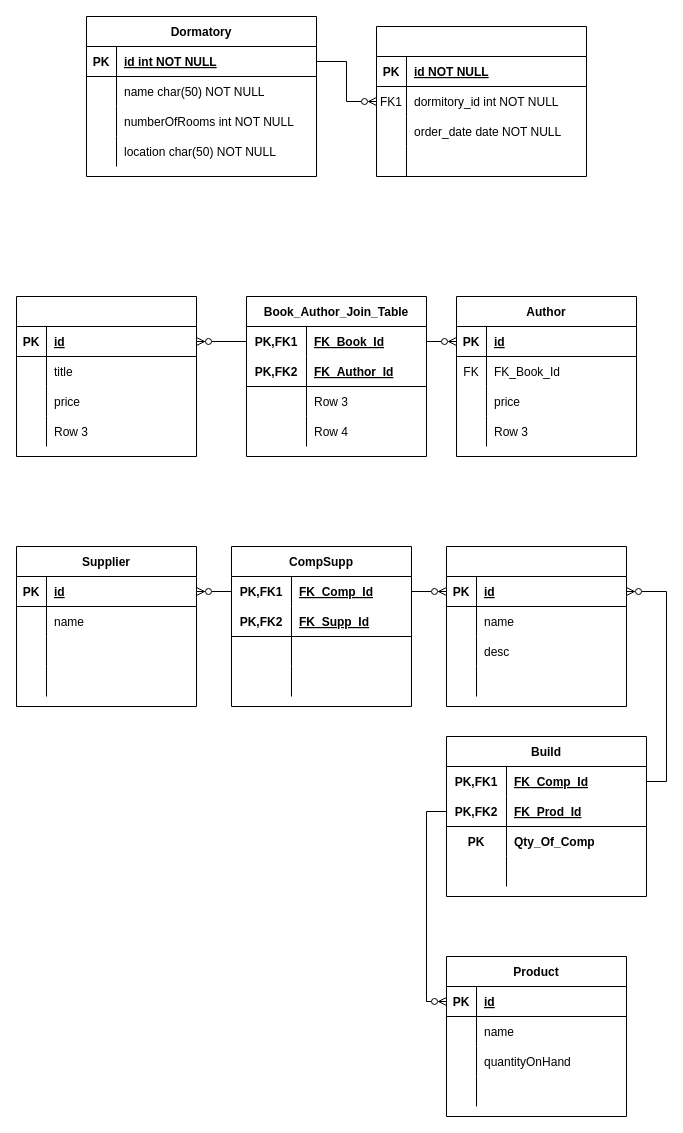
Image size: 683x1133. Some labels were removed from this diagram. Here are the shapes that lost their labels. From the top down, the box of each, then its label:
(376, 26, 586, 176): Student
(16, 296, 196, 456): Book
(446, 546, 626, 706): Component
